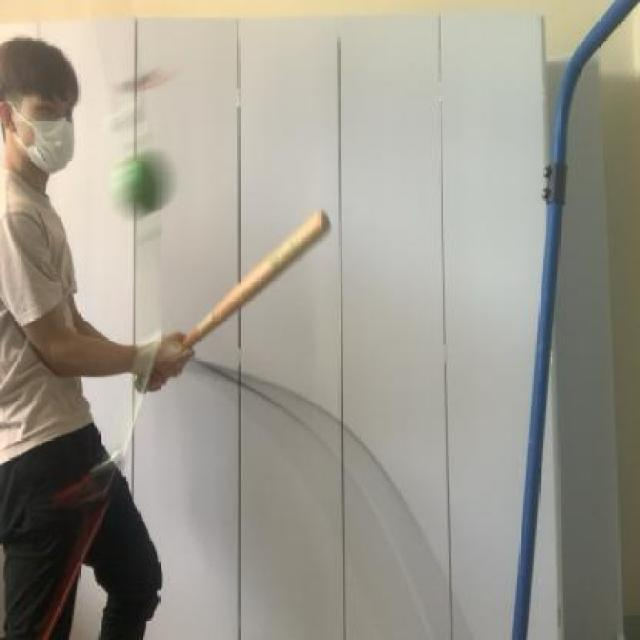baseball: (109, 144, 180, 216)
